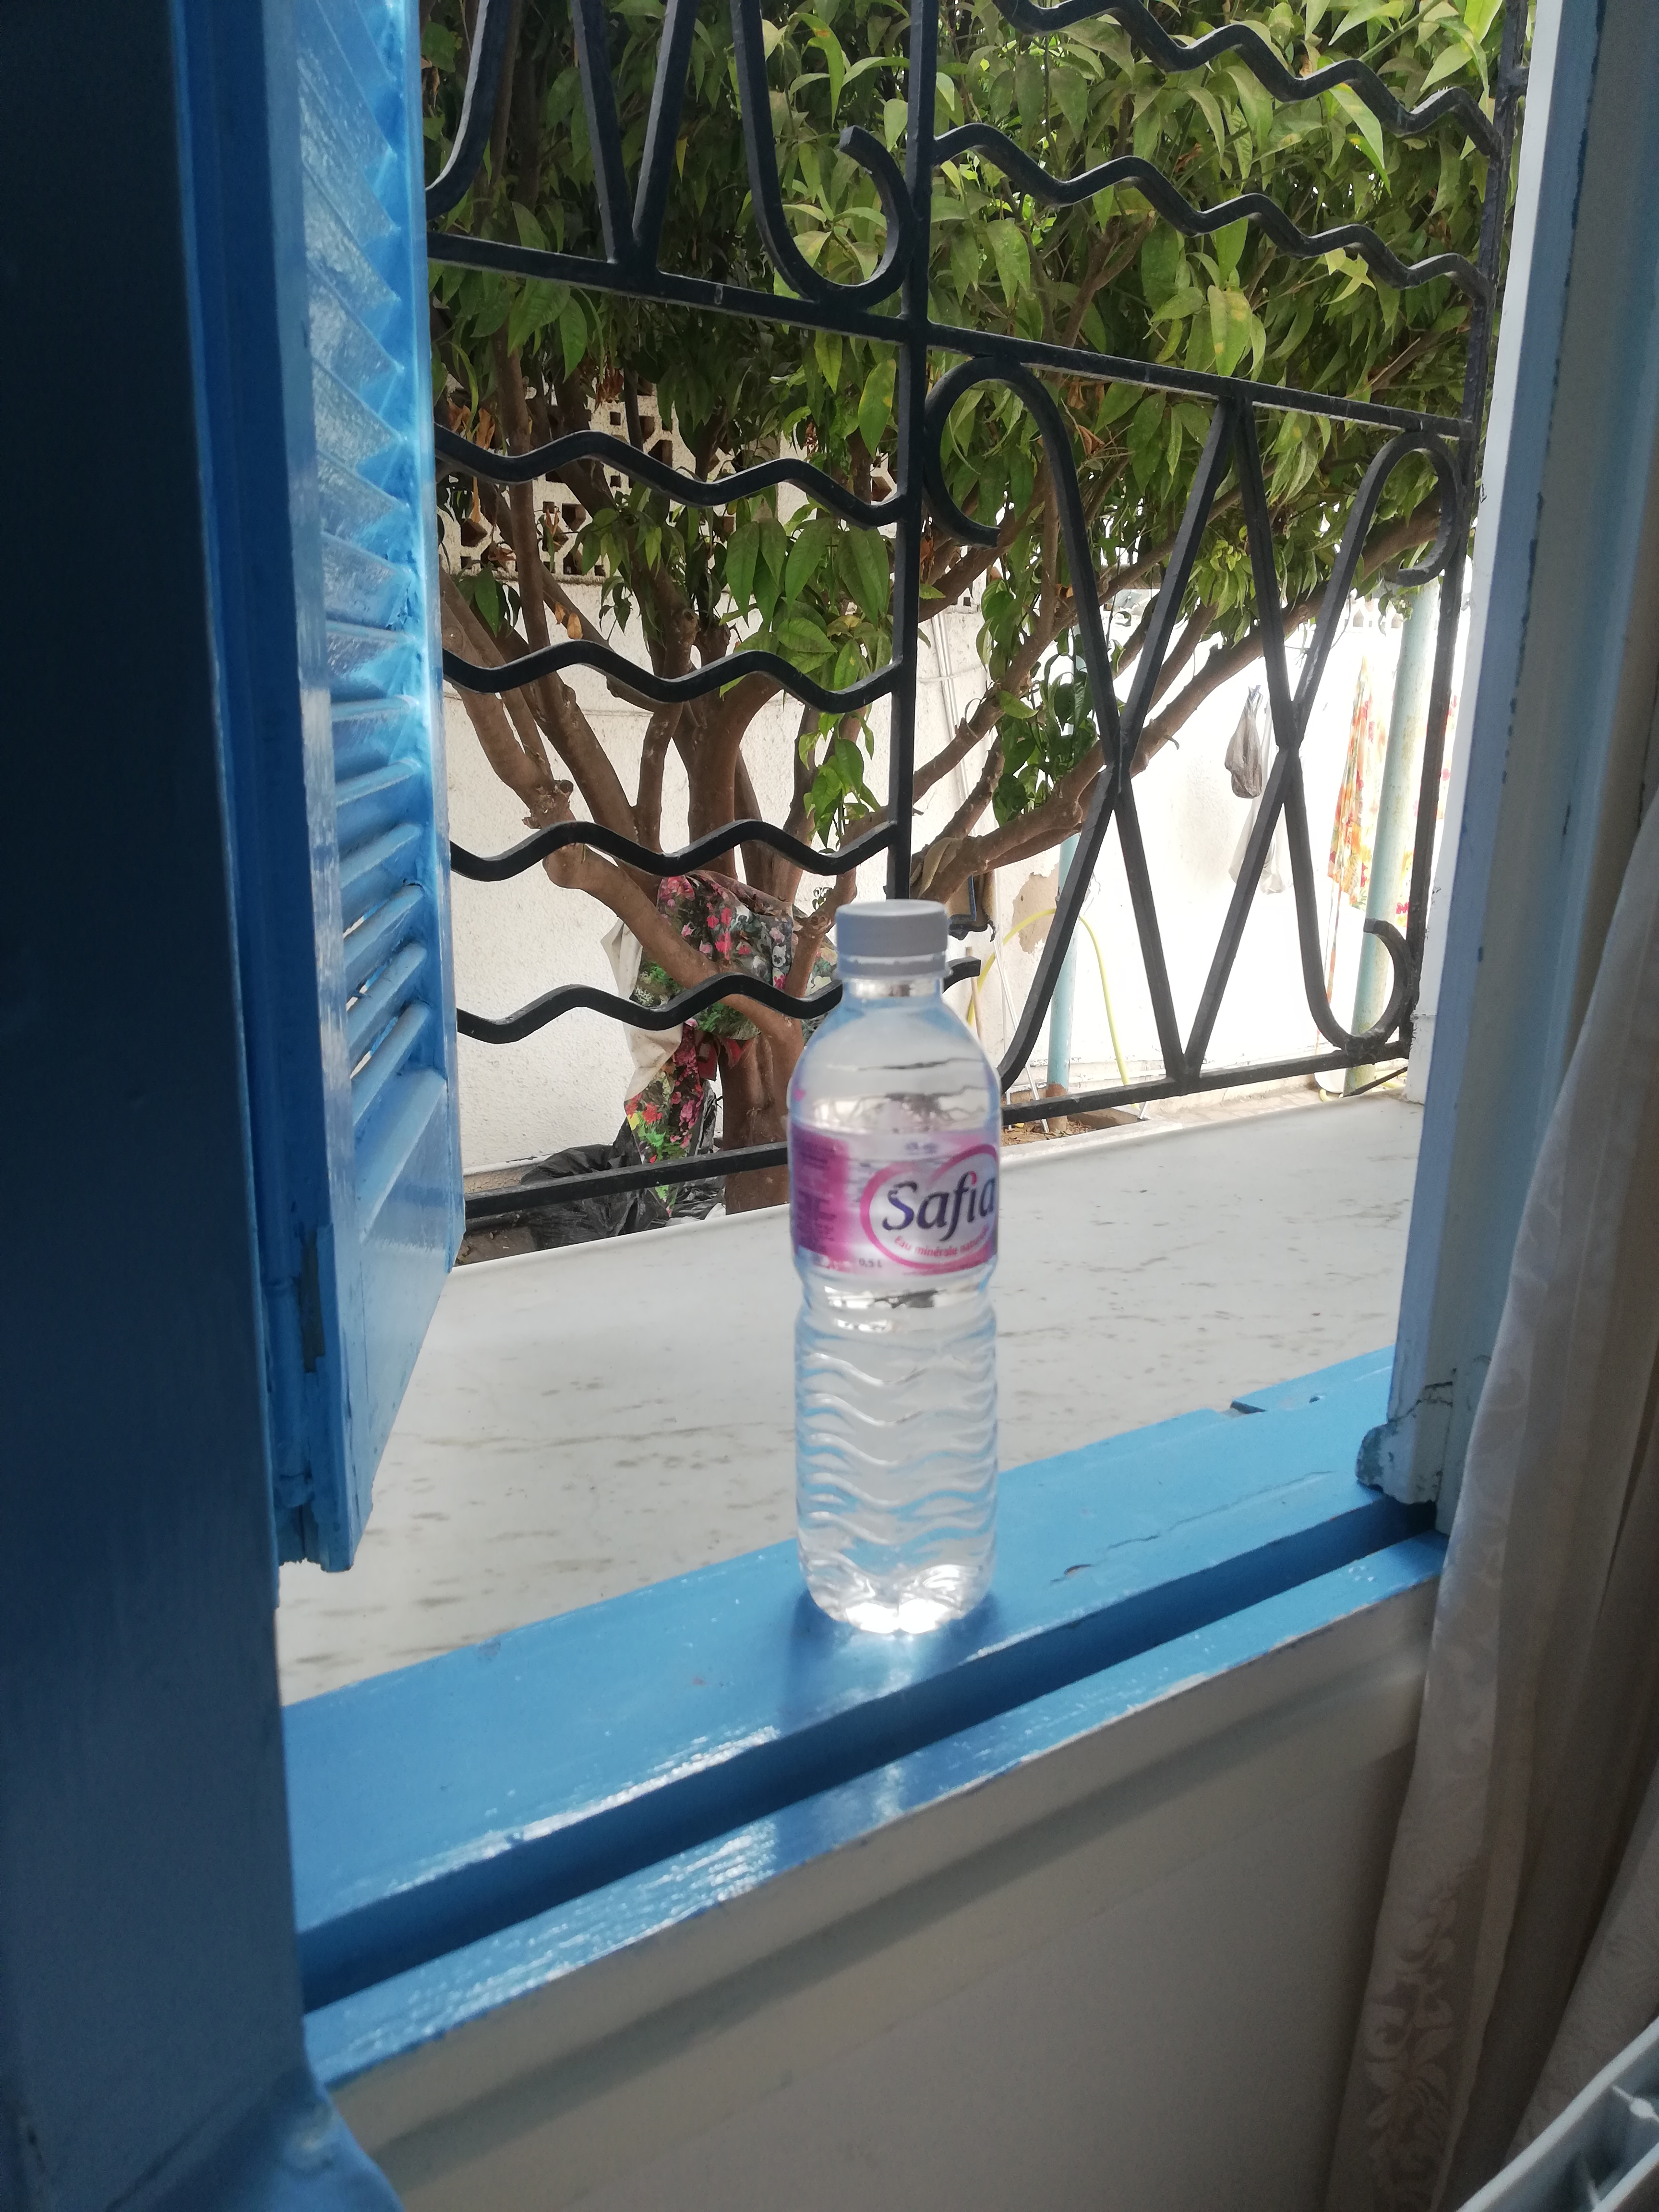Eau safia: (784, 907, 1025, 1637)
